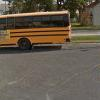Bus: (3, 7, 78, 55)
